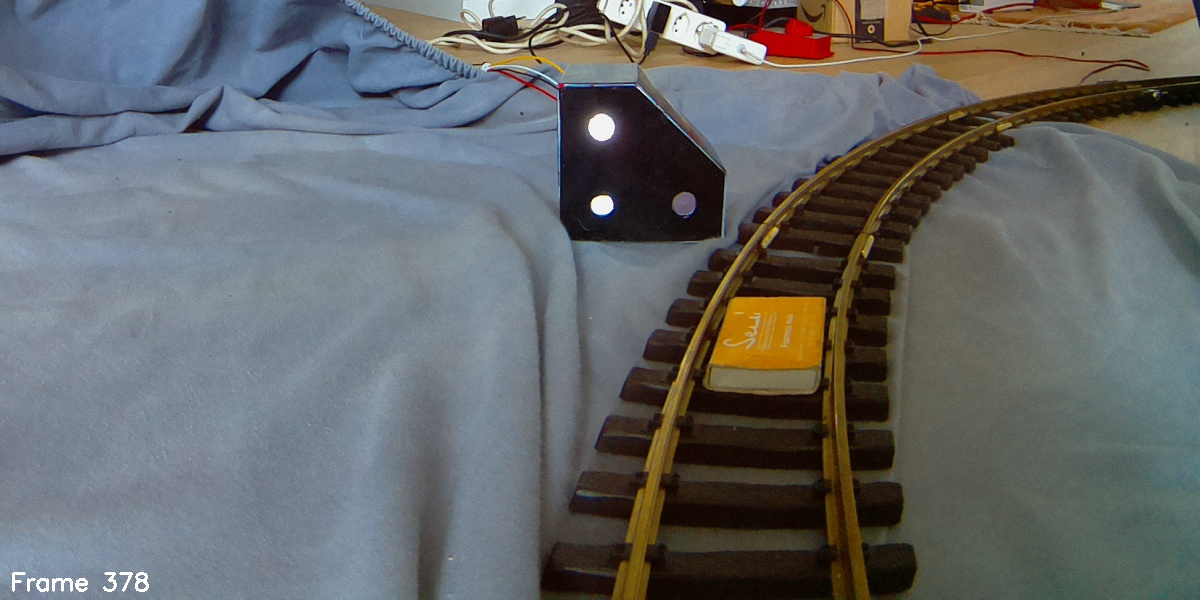Fahrt: (562, 62, 729, 247)
